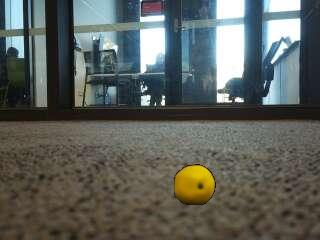lemon: (174, 166, 213, 205)
